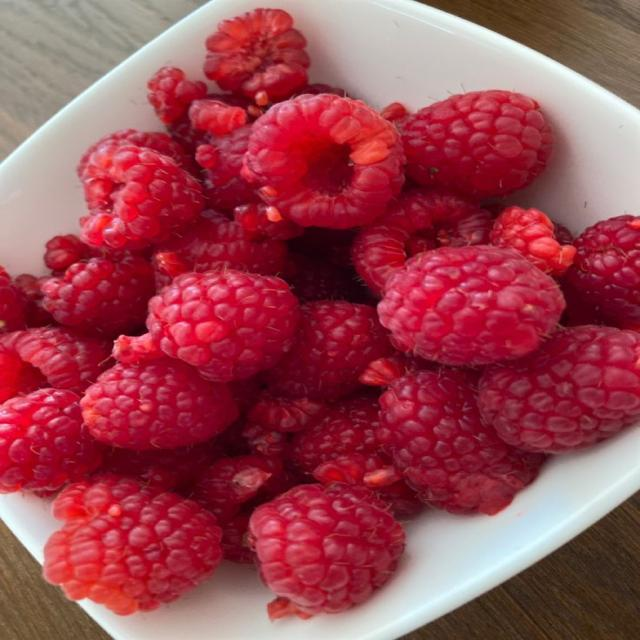raspberry: (44, 477, 222, 614), (376, 370, 541, 514), (378, 246, 565, 365), (243, 94, 404, 228), (249, 484, 405, 619), (479, 326, 639, 453), (147, 270, 299, 382), (402, 91, 553, 197), (352, 189, 490, 293), (81, 359, 237, 450), (81, 145, 204, 248), (267, 301, 393, 399), (0, 389, 101, 493), (153, 211, 286, 285), (204, 8, 310, 98), (41, 256, 155, 335), (0, 328, 108, 401), (566, 215, 639, 320), (291, 394, 379, 473), (314, 453, 423, 515), (96, 440, 220, 490), (190, 455, 281, 523), (77, 129, 196, 180), (490, 207, 576, 275), (202, 125, 259, 210), (283, 253, 357, 302), (147, 67, 206, 123), (314, 453, 401, 489), (247, 393, 328, 431), (289, 227, 356, 268), (560, 279, 615, 326), (234, 203, 303, 240), (360, 353, 434, 386), (247, 467, 307, 506), (14, 274, 55, 326), (189, 99, 246, 135), (44, 235, 99, 272), (241, 422, 291, 459), (167, 113, 213, 153), (167, 113, 211, 153), (0, 267, 27, 332), (221, 513, 255, 564), (112, 333, 165, 363), (216, 418, 254, 456), (229, 377, 262, 414), (296, 83, 350, 97), (195, 143, 219, 168), (380, 102, 409, 121), (554, 222, 574, 244)
